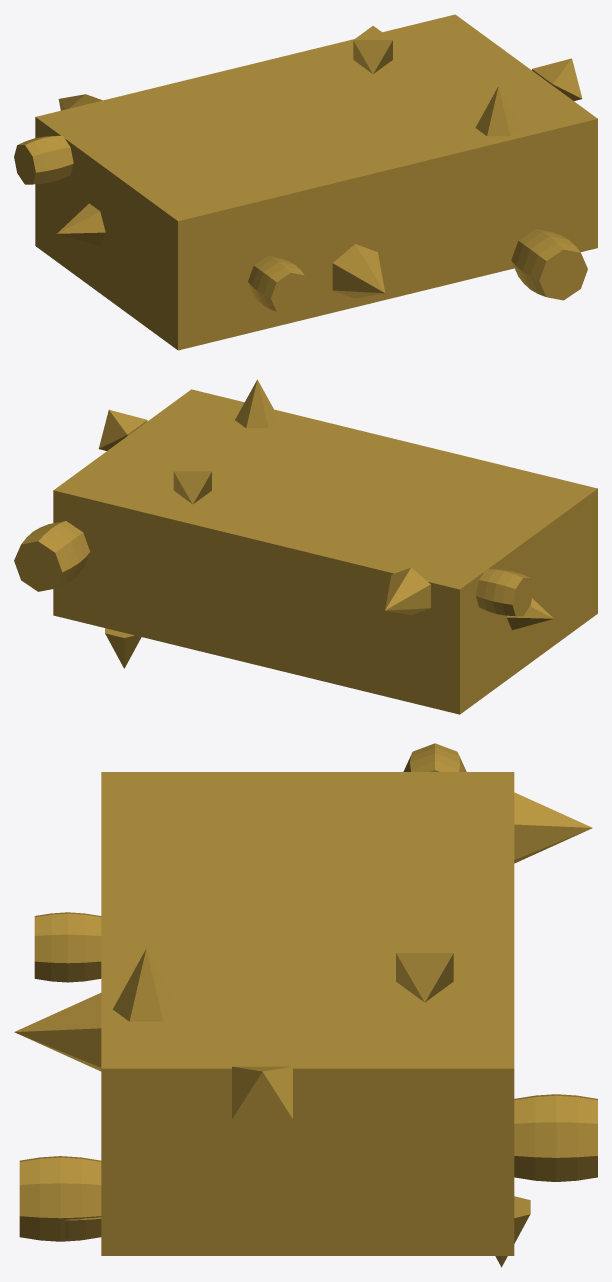
File: object04_medium.glb
3 views of the same model, one above another, from view 1: azimuth 30°, elevation 25°; view 2: azimuth 150°, elevation 25°; view 3: azimuth 270°, elevation 25° (orthographic). The views are drawn at different scales.
Visible parts, largest first — view 1: object04_medium; view 2: object04_medium; view 3: object04_medium.
Boxes of the visible parts, bbox=[...] form: object04_medium: bbox=[14, 14, 597, 350]; object04_medium: bbox=[14, 379, 597, 714]; object04_medium: bbox=[14, 743, 597, 1267].
Bounding box in the file's own units: 3.95 × 1.65 × 2.83.
